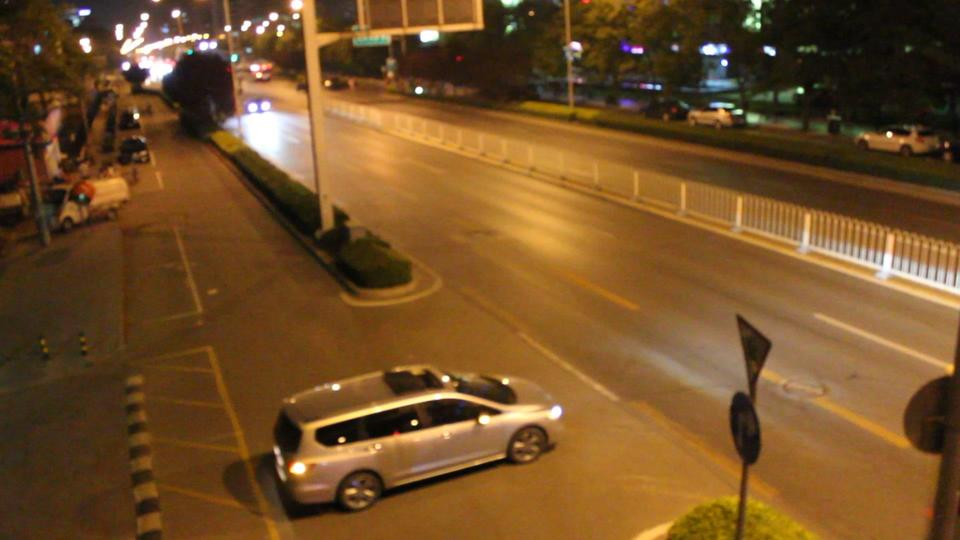Car: (274, 365, 558, 504), (242, 96, 272, 113)
